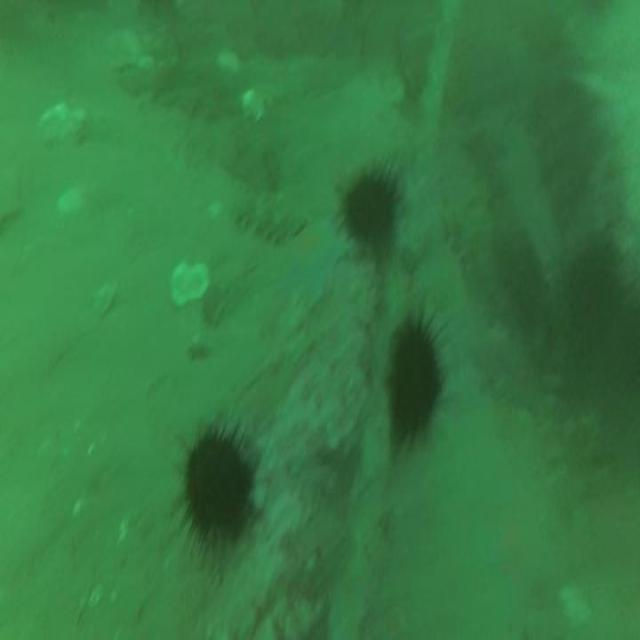echinus: (184, 438, 248, 534), (390, 329, 440, 444), (343, 176, 397, 252)
holothurian: (234, 188, 306, 247)
